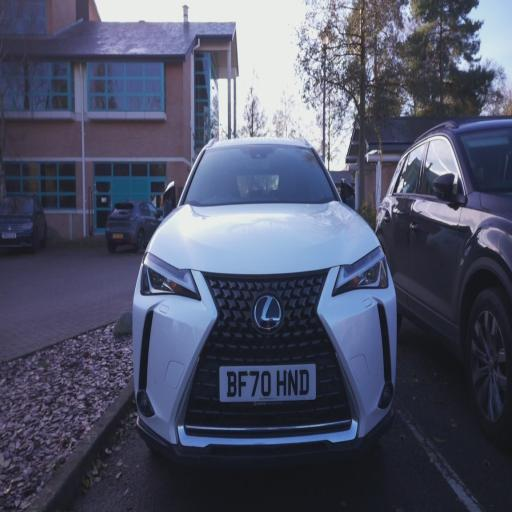numberplates: (219, 365, 315, 402), (2, 233, 16, 238), (113, 234, 123, 238)
